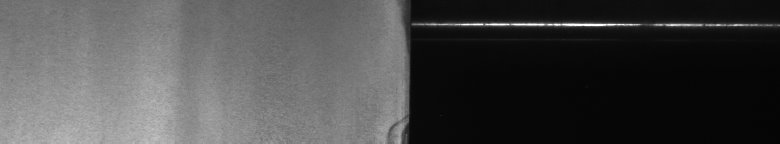hb: (378, 113, 400, 136)
